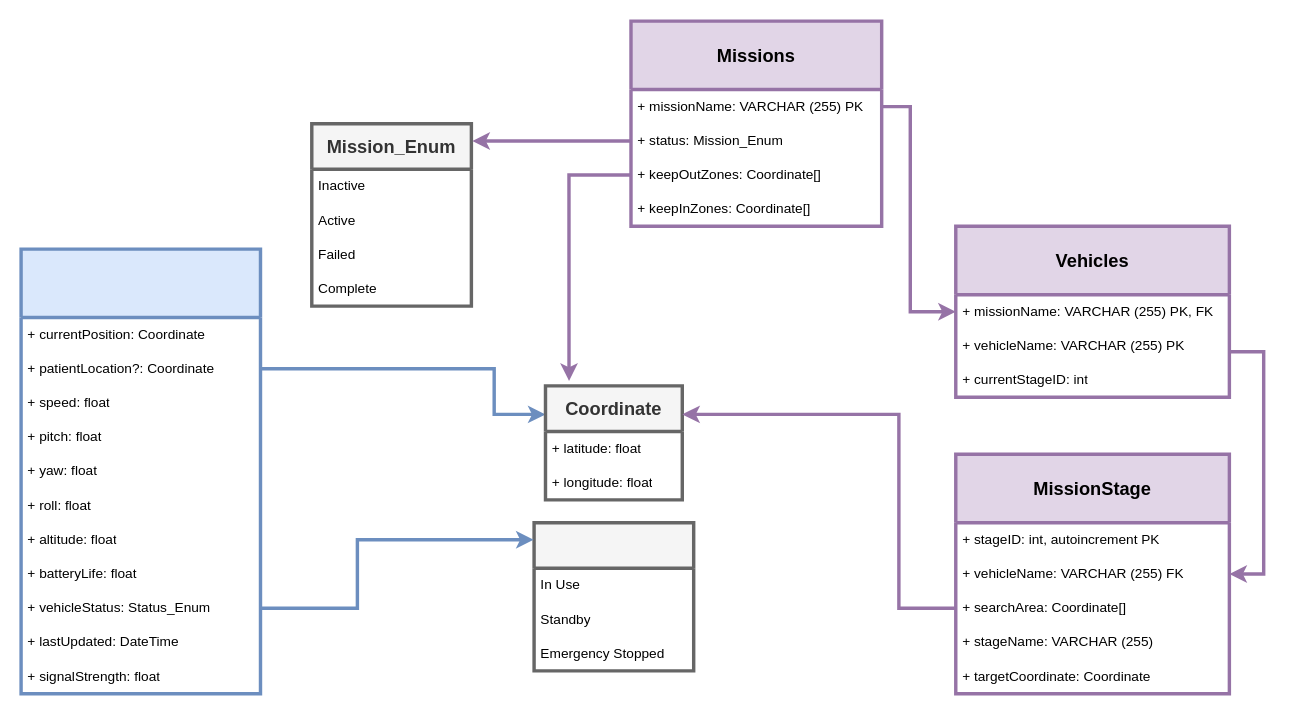
This 1294x715 diagram has some shape labels left out. Each missing label, with the box of its shape:
Status_Enum: (532, 520, 695, 672)
VehicleTelemetry: (19, 247, 262, 695)
